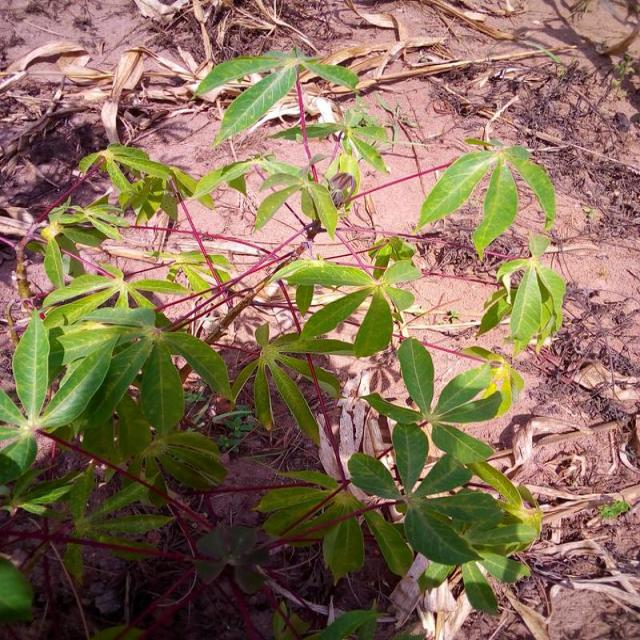cassava leaf: (4, 45, 567, 622), (415, 139, 557, 259)
